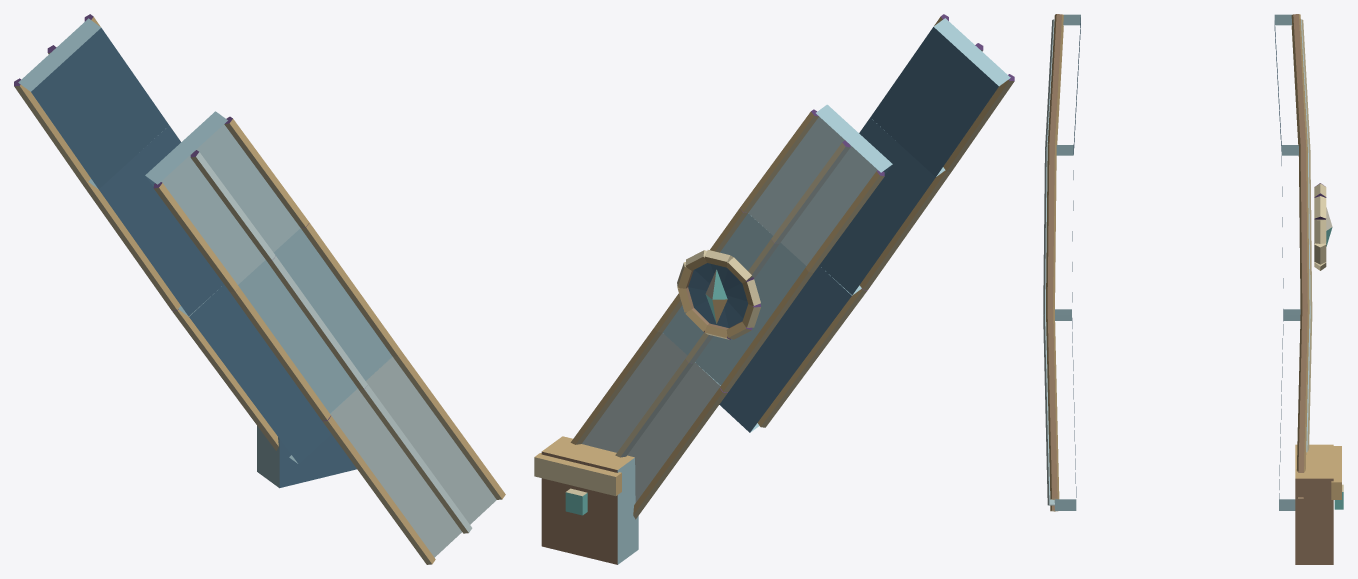
Rendered from explorer_sash.glb.
3 views of the same model, side by side, from view 1: azimuth 30°, elevation 25°; view 2: azimuth 150°, elevation 25°; view 3: azimuth 270°, elevation 25° (orthographic). The views are drawn at different scales.
Parts seen in each view (by area): view 1: body; view 2: body; view 3: body.
Boxes of the visible parts, x1,y1,x2,y2 form: body: (14,14,505,564); body: (534,14,1014,564); body: (1043,14,1343,564).
Bounding box in the file's own units: 7.61 × 10.78 × 6.68.
